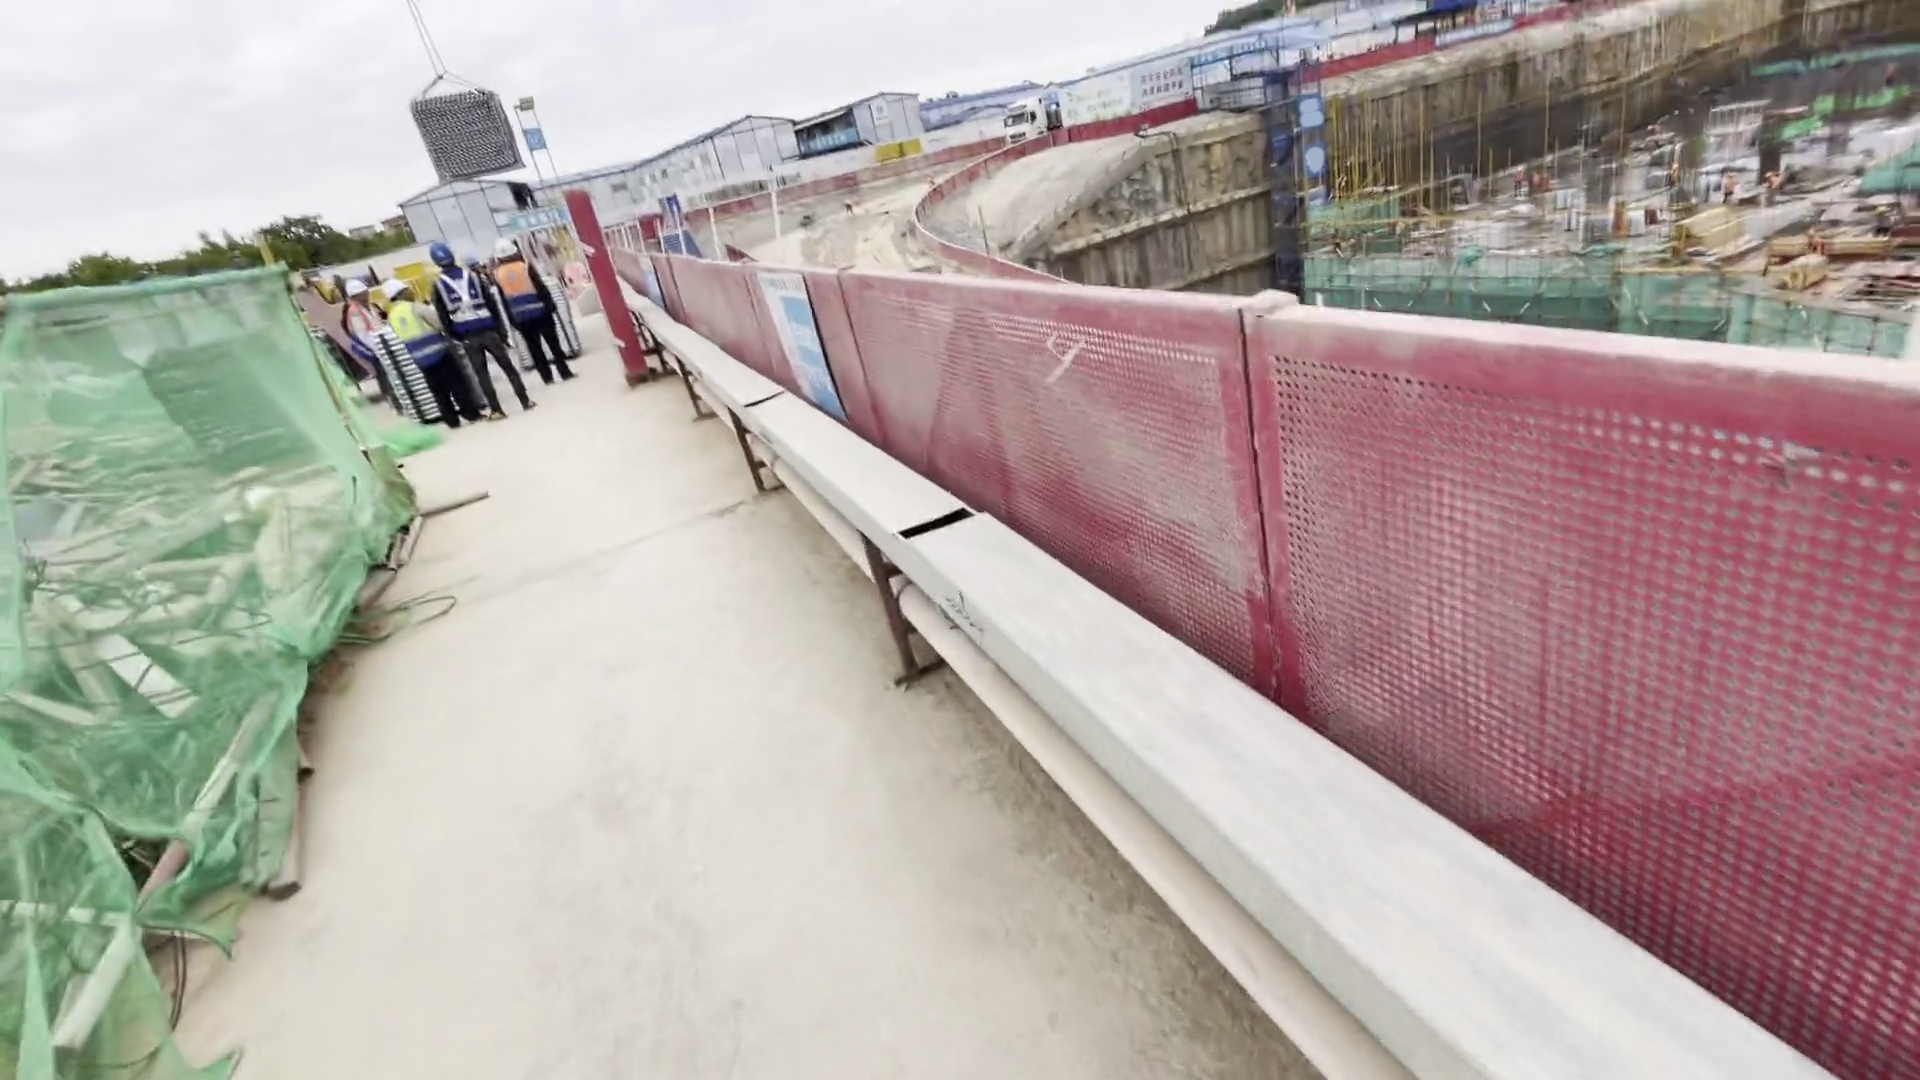fence: (493, 114, 1727, 891)
helmet: (427, 238, 458, 268), (494, 234, 525, 262), (378, 274, 408, 297), (346, 274, 370, 296)
person: (424, 245, 535, 426), (486, 238, 586, 392), (382, 283, 481, 433), (340, 282, 395, 355)
scaffold: (373, 53, 585, 203)
slogan: (1080, 64, 1270, 148), (786, 61, 918, 179), (758, 274, 830, 425)
vest: (386, 304, 463, 372), (432, 268, 498, 343), (494, 261, 551, 331), (344, 301, 394, 350)
